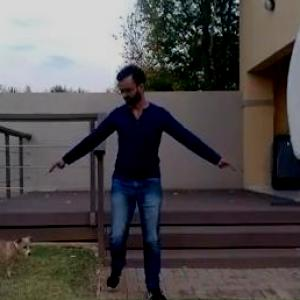land: (59, 66, 258, 299)
